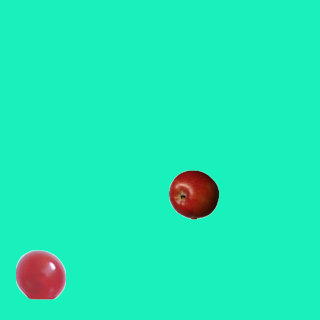Apple Braeburn: (168, 169, 218, 219)
Redcurrant: (15, 249, 65, 299)
